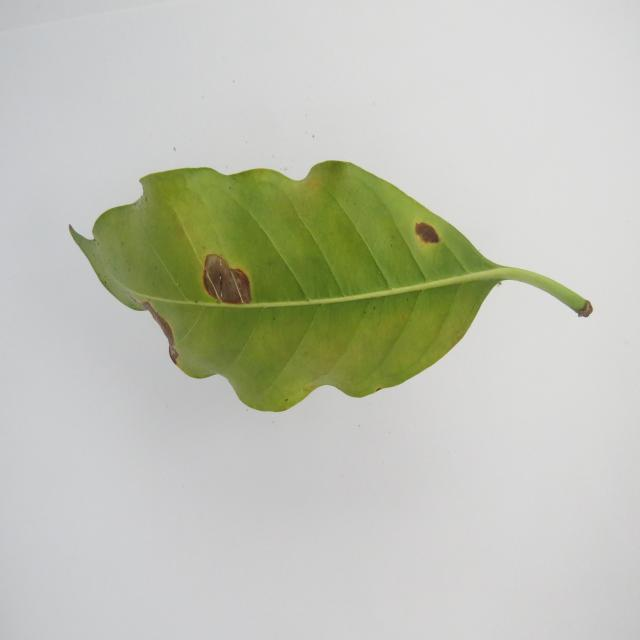DeficienciaNutricional-Calcio: (70, 162, 591, 412)
